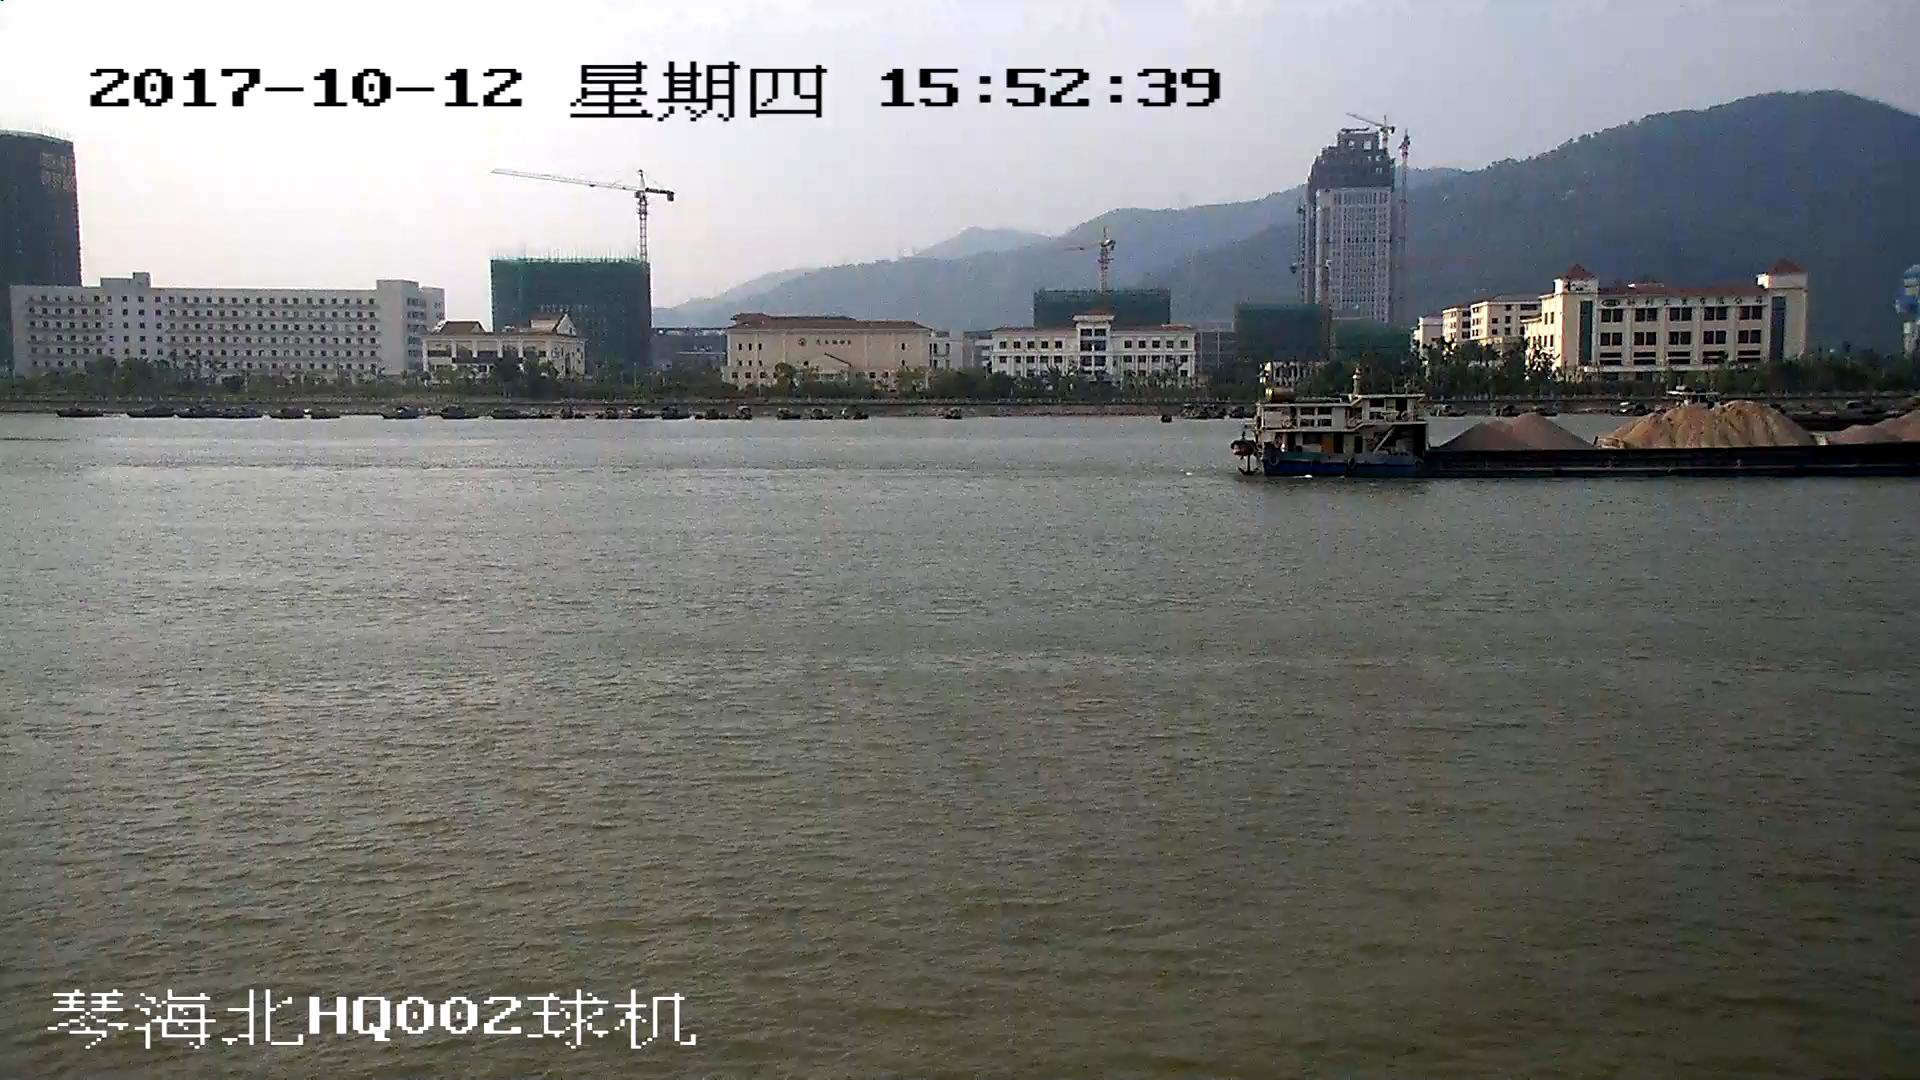ore carrier: (1241, 385, 1920, 482)
